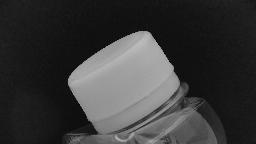Broken Cap: (58, 26, 196, 142)
